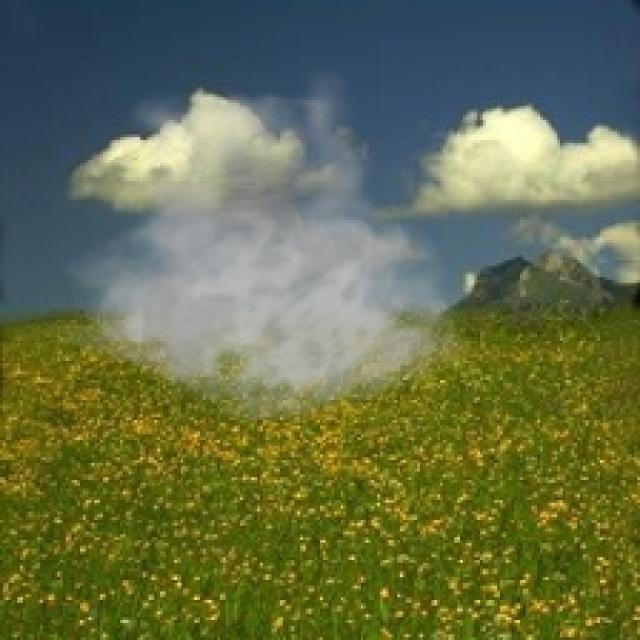Smoke: (54, 60, 469, 423)
